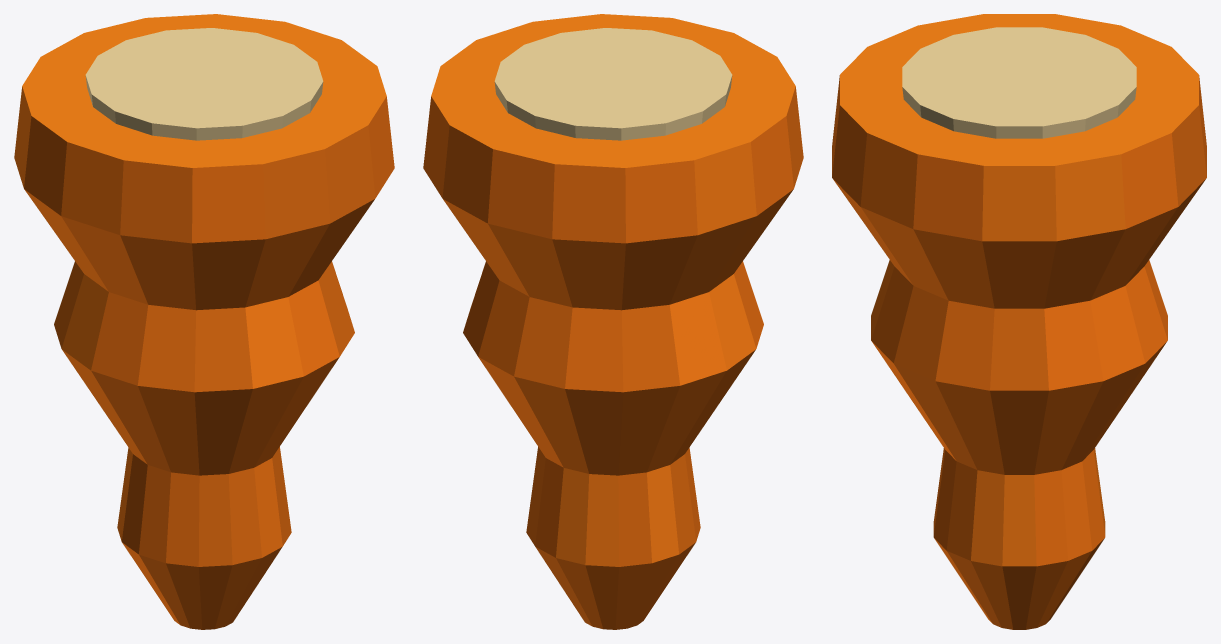
The model's file is ER_SculptedExhaustPlume.fbx.
3 renders of one model, left to right at view 1: azimuth 30°, elevation 25°; view 2: azimuth 150°, elevation 25°; view 3: azimuth 270°, elevation 25°, orthographic.
Visible parts, largest first — view 1: ER_SculptedExhaustPlume; view 2: ER_SculptedExhaustPlume; view 3: ER_SculptedExhaustPlume.
Part boxes in pixels (x1,y1,x2,y2): ER_SculptedExhaustPlume: (14,14,394,629); ER_SculptedExhaustPlume: (423,14,803,629); ER_SculptedExhaustPlume: (832,14,1206,629).
Size of the model in its own units: 0.4708 by 0.748 by 0.4708.
Materials: 2 (2 with a texture image).
